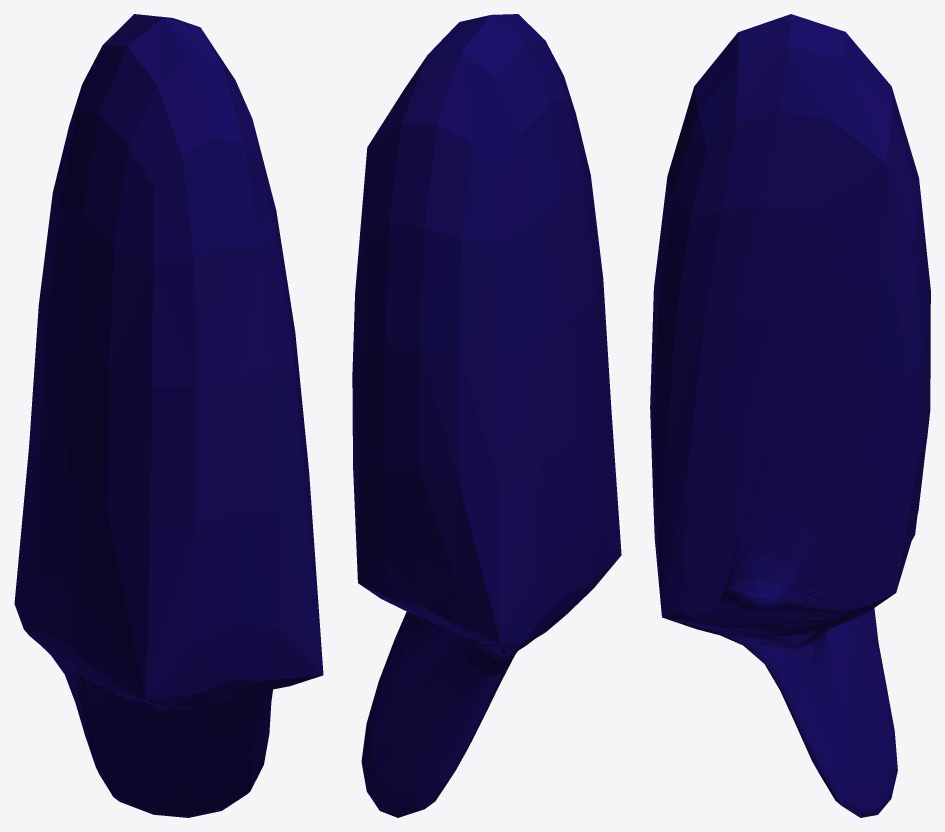
The picture shows the model from 3 angles, left to right: view 1: azimuth 30°, elevation 25°; view 2: azimuth 150°, elevation 25°; view 3: azimuth 270°, elevation 25°; orthographic projection. The views are drawn at different scales.
Visible parts, largest first — view 1: 614_Cube.2468; view 2: 614_Cube.2468; view 3: 614_Cube.2468.
Part boxes in pixels (left/top/right/bottom): 614_Cube.2468: left=14, top=14, right=323, bottom=817; 614_Cube.2468: left=352, top=14, right=621, bottom=817; 614_Cube.2468: left=650, top=14, right=930, bottom=817.
Size of the model in its own units: 4.02 by 14.98 by 4.96.
